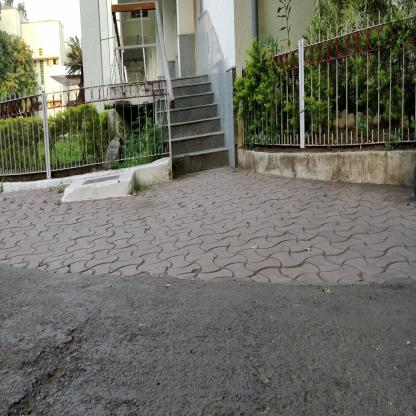stairs: (174, 101, 230, 181)
